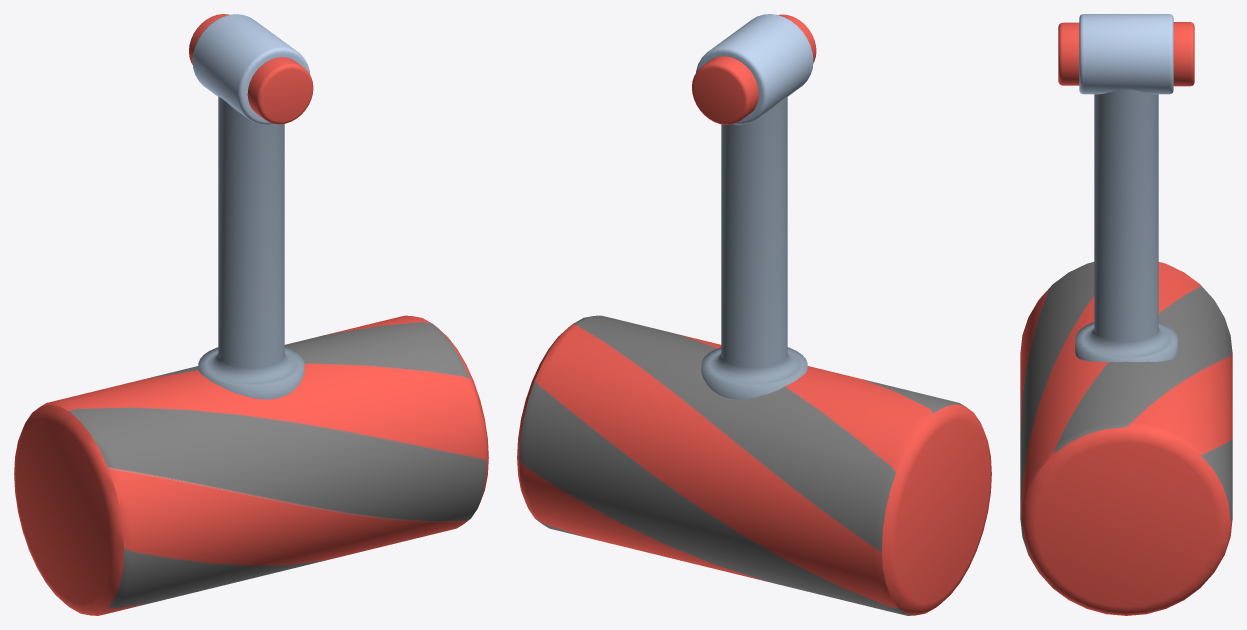
File: VerticalHammer.fbx
3 renders of one model, left to right at view 1: azimuth 30°, elevation 25°; view 2: azimuth 150°, elevation 25°; view 3: azimuth 270°, elevation 25°, orthographic. The views are drawn at different scales.
Parts seen in each view (by area): view 1: Hammer.002; view 2: Hammer.002; view 3: Hammer.002.
Part boxes in pixels (x1,y1,x2,y2): Hammer.002: [14, 14, 488, 615]; Hammer.002: [517, 14, 991, 615]; Hammer.002: [1020, 14, 1232, 615].
Bounding box in the file's own units: 400 × 542 × 203.
